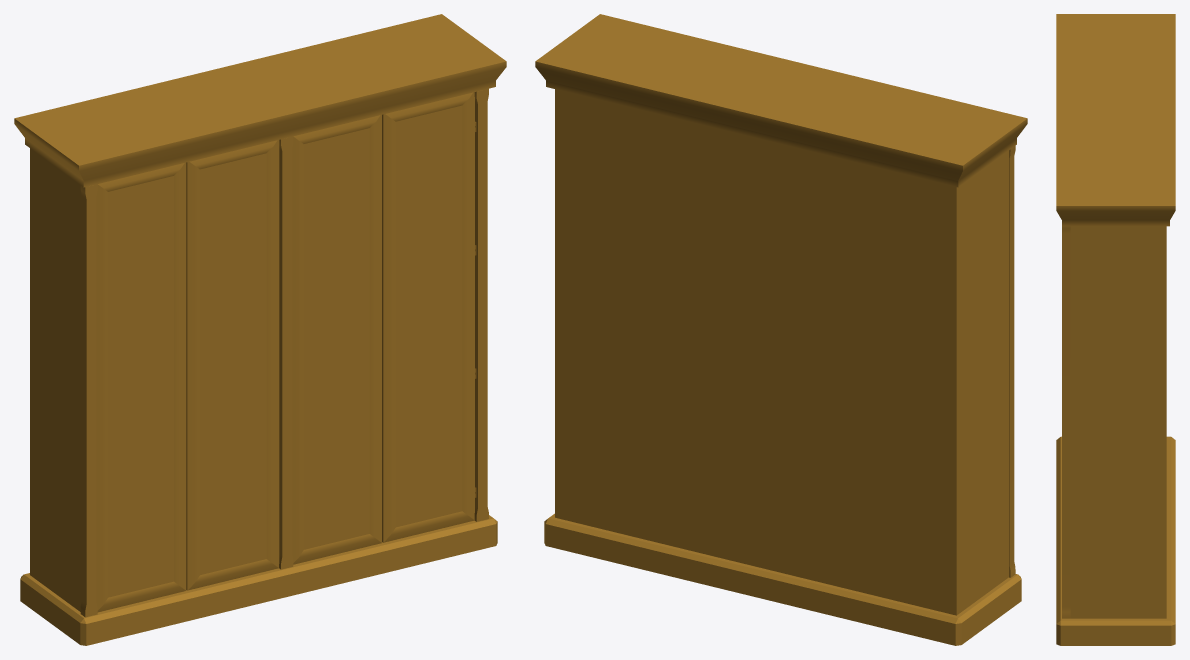
File: BookCase.fbx
The picture shows the model from 3 angles, left to right: view 1: azimuth 30°, elevation 25°; view 2: azimuth 150°, elevation 25°; view 3: azimuth 270°, elevation 25°; orthographic projection. The views are drawn at different scales.
Parts seen in each view (by area): view 1: BookCase, LeftDoor_2, RightDoor_2, LeftDoor_1, RightDoor_1; view 2: BookCase; view 3: BookCase.
Part boxes in pixels (x1=…): BookCase: x1=14, y1=14, x2=506, y2=645; LeftDoor_2: x1=186, y1=140, x2=279, y2=590; RightDoor_2: x1=382, y1=92, x2=474, y2=542; LeftDoor_1: x1=96, y1=162, x2=186, y2=612; RightDoor_1: x1=292, y1=115, x2=381, y2=564; BookCase: x1=535, y1=14, x2=1027, y2=645; BookCase: x1=1056, y1=14, x2=1175, y2=645.
Bounding box in the file's own units: 260 × 280 × 68.4.
